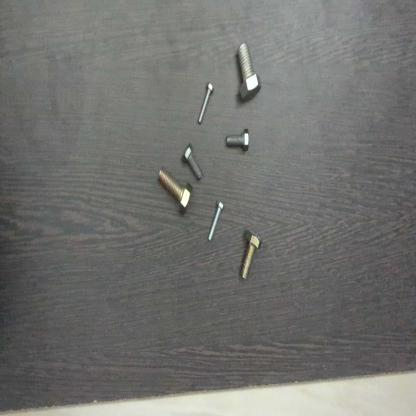Bolts: (154, 164, 194, 218), (234, 226, 266, 283), (235, 44, 262, 108), (180, 140, 209, 182), (194, 76, 216, 130), (221, 125, 254, 157), (208, 199, 226, 248)
